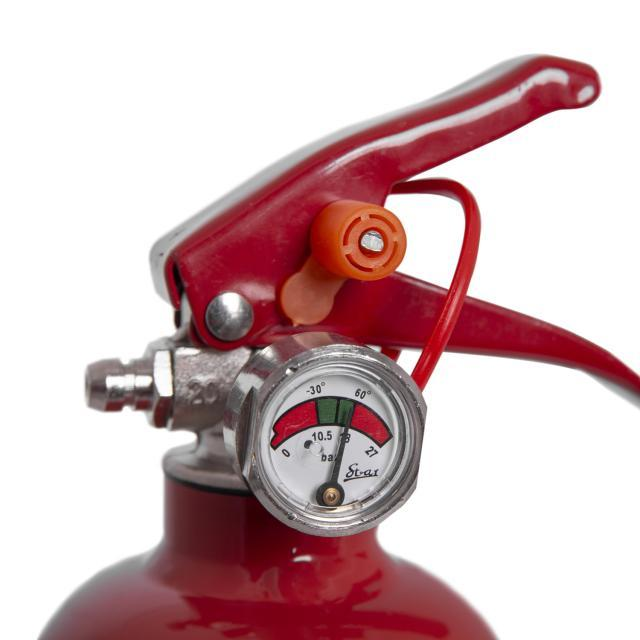pressure gauge: (225, 333, 425, 535)
